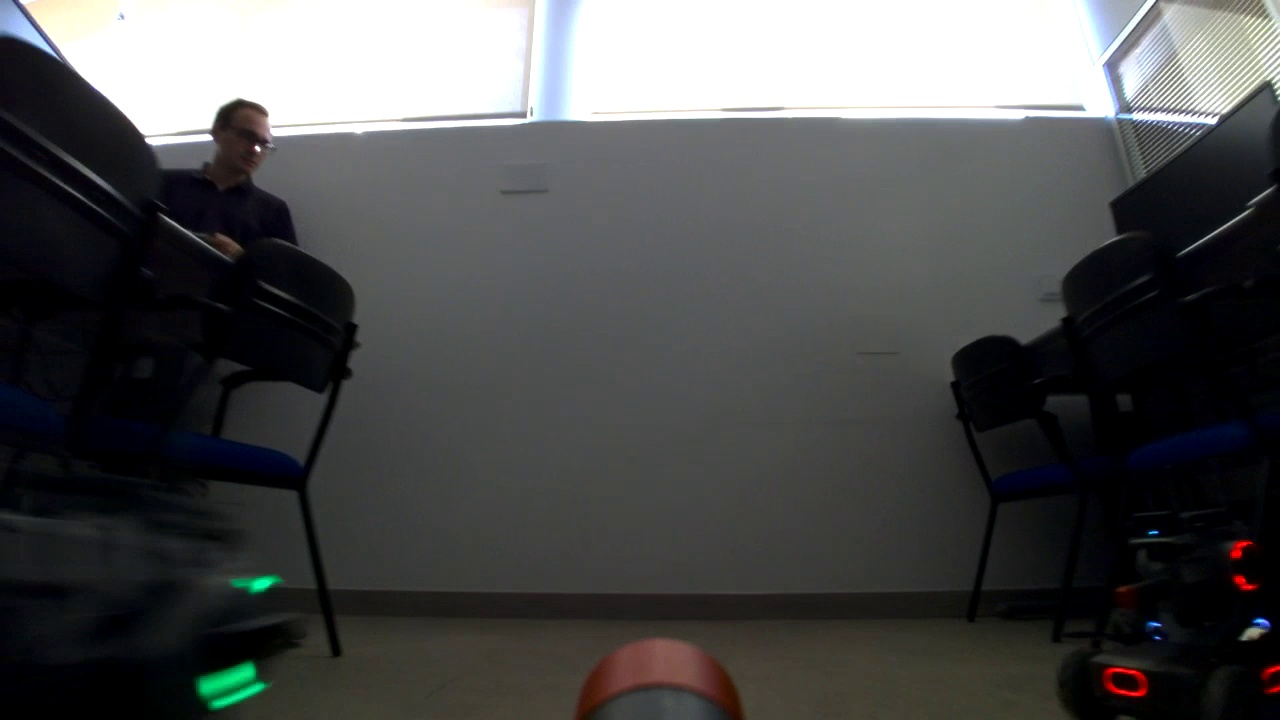robot: (1052, 502, 1280, 720)
